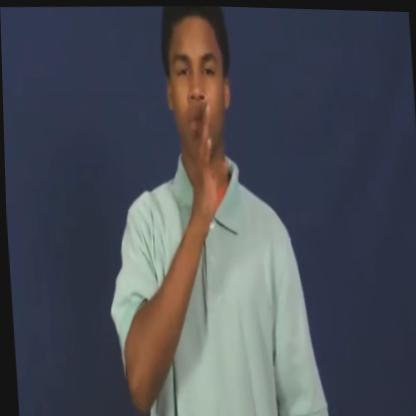Talk: (135, 3, 260, 279)
